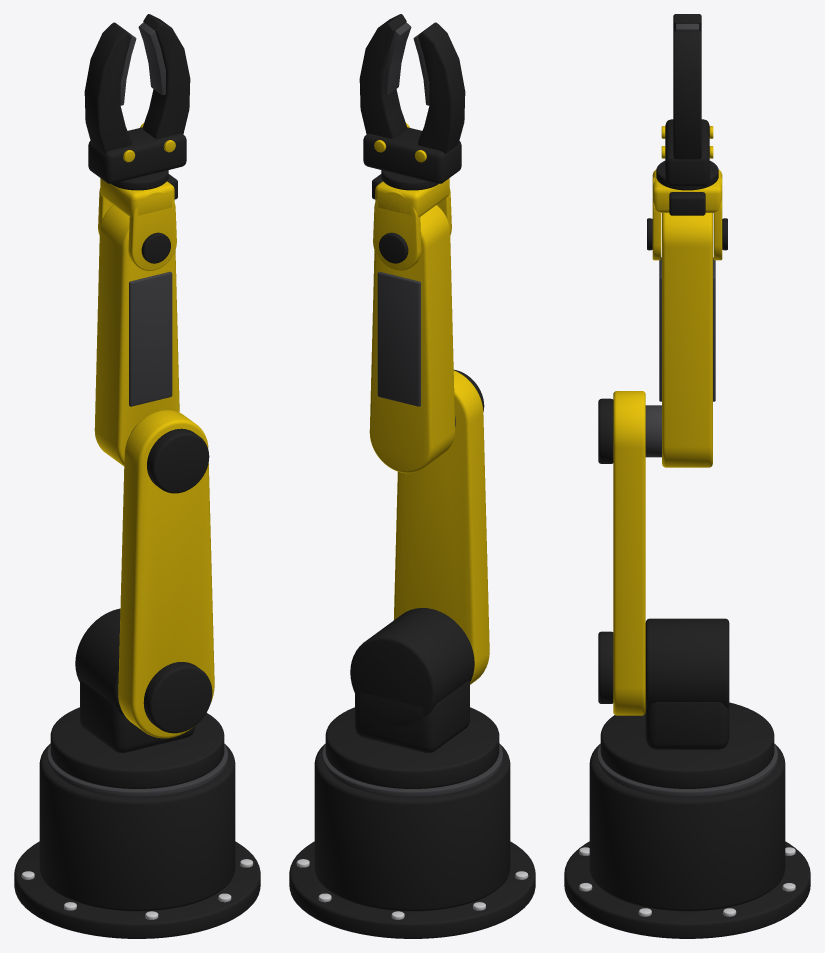
File: braco_robotico.glb
3 renders of one model, left to right at view 1: azimuth 30°, elevation 25°; view 2: azimuth 150°, elevation 25°; view 3: azimuth 270°, elevation 25°, orthographic.
Visible parts, largest first — view 1: Base_Corpo, Braco_Elo, Antebraco_Elo, Base_Flange, Torre_Disco, Antebraco_Painel_F, Dedo_E_Garra, Ombro_Tampa, Dedo_D_Garra, Garra_Palma, Ombro_Motor, Cotovelo_Tampa (+8 smaller); view 2: Base_Corpo, Braco_Elo, Antebraco_Elo, Ombro_Motor, Base_Flange, Torre_Disco, Antebraco_Painel_T, Torre_Corpo, Dedo_E_Garra, Dedo_D_Garra, Garra_Palma, Punho_Garfo_T (+6 smaller); view 3: Base_Corpo, Antebraco_Elo, Braco_Elo, Torre_Disco, Base_Flange, Ombro_Motor, Torre_Corpo, Dedo_D_Garra, Garra_Palma, Base_Topo, Ombro_Tampa, Punho_Bloco (+7 smaller).
Boxes of the visible parts, x1=… form: Base_Corpo: x1=39, y1=743, x2=235, y2=911; Braco_Elo: x1=118, y1=410, x2=214, y2=738; Antebraco_Elo: x1=94, y1=205, x2=179, y2=466; Base_Flange: x1=14, y1=841, x2=260, y2=938; Torre_Disco: x1=50, y1=707, x2=224, y2=788; Antebraco_Painel_F: x1=129, y1=271, x2=172, y2=406; Dedo_E_Garra: x1=84, y1=22, x2=131, y2=153; Ombro_Tampa: x1=143, y1=662, x2=212, y2=733; Dedo_D_Garra: x1=143, y1=14, x2=190, y2=138; Garra_Palma: x1=88, y1=127, x2=186, y2=183; Ombro_Motor: x1=75, y1=608, x2=125, y2=716; Cotovelo_Tampa: x1=147, y1=428, x2=209, y2=493; Base_Corpo: x1=314, y1=743, x2=510, y2=911; Braco_Elo: x1=393, y1=370, x2=489, y2=684; Antebraco_Elo: x1=369, y1=205, x2=455, y2=473; Ombro_Motor: x1=350, y1=608, x2=474, y2=725; Base_Flange: x1=289, y1=841, x2=535, y2=938; Torre_Disco: x1=325, y1=707, x2=499, y2=788; Antebraco_Painel_T: x1=377, y1=271, x2=420, y2=406; Torre_Corpo: x1=355, y1=681, x2=469, y2=752; Dedo_E_Garra: x1=418, y1=22, x2=465, y2=153; Dedo_D_Garra: x1=359, y1=14, x2=406, y2=138; Garra_Palma: x1=363, y1=127, x2=461, y2=183; Punho_Garfo_T: x1=373, y1=190, x2=421, y2=270; Base_Corpo: x1=589, y1=744, x2=785, y2=911; Antebraco_Elo: x1=662, y1=213, x2=712, y2=467; Braco_Elo: x1=613, y1=391, x2=645, y2=715; Torre_Disco: x1=600, y1=702, x2=774, y2=788; Base_Flange: x1=564, y1=841, x2=810, y2=938; Ombro_Motor: x1=645, y1=618, x2=729, y2=709; Torre_Corpo: x1=645, y1=702, x2=729, y2=749; Dedo_D_Garra: x1=673, y1=31, x2=701, y2=159; Garra_Palma: x1=665, y1=119, x2=709, y2=186; Base_Topo: x1=597, y1=744, x2=777, y2=797; Ombro_Tampa: x1=598, y1=631, x2=613, y2=703; Punho_Bloco: x1=652, y1=170, x2=722, y2=212.
Bounding box in the file's own units: 0.204 × 0.7904 × 0.204.
